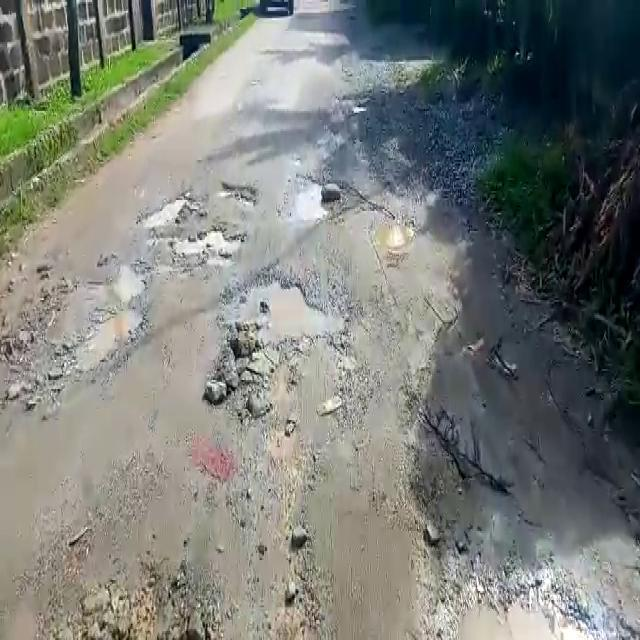Pothole: (48, 260, 144, 379), (223, 269, 352, 339), (452, 585, 572, 640), (179, 224, 245, 259), (138, 195, 192, 232), (372, 214, 416, 258), (290, 175, 327, 223), (217, 179, 258, 206)
